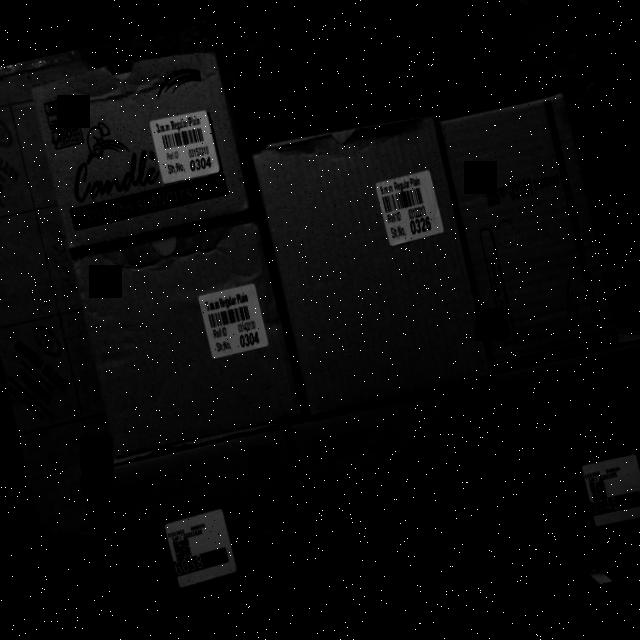box: (250, 110, 494, 417), (286, 378, 534, 630), (70, 210, 306, 460), (72, 422, 337, 640), (436, 92, 622, 374), (32, 44, 254, 254), (486, 337, 640, 569)
